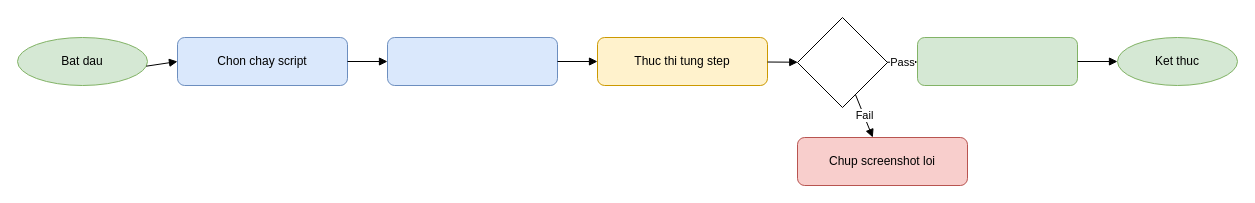
Image size: 1255x203. Some labels were removed from this diagram. The centre of each missing label's shape, as x and y in pixels:
Luu log ket qua: pixel 997 61
Tao phien chay: pixel 472 61
